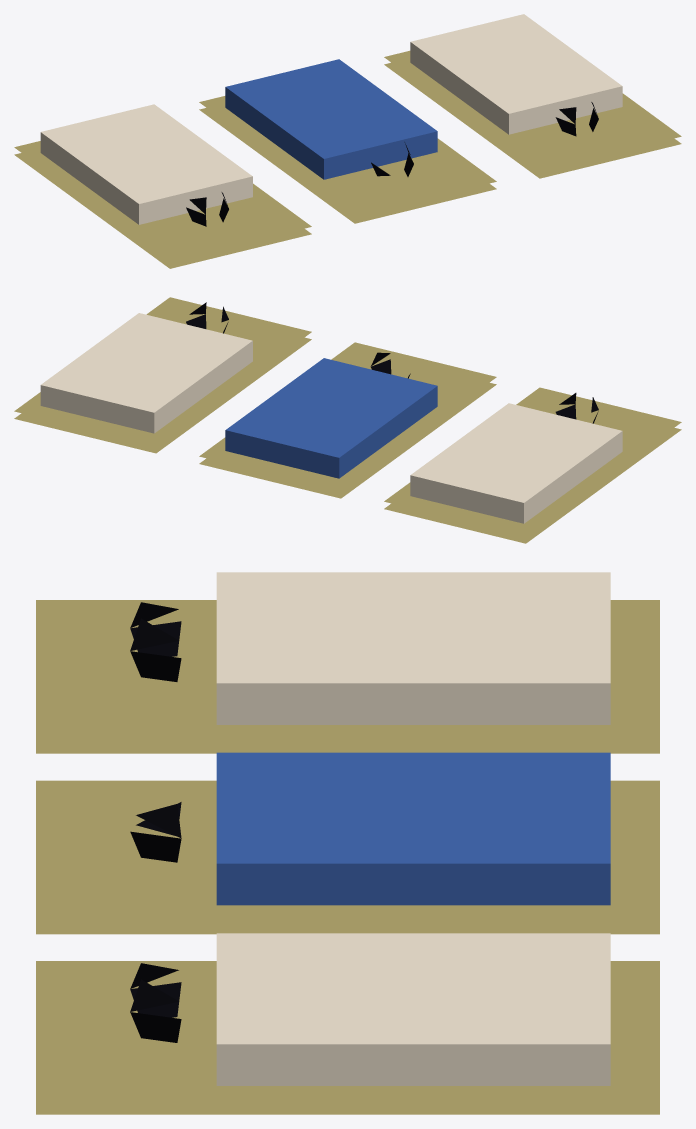
The model's file is prop_sick_mats_lod1.glb.
3 renders of one model, top to bottom at view 1: azimuth 30°, elevation 25°; view 2: azimuth 150°, elevation 25°; view 3: azimuth 270°, elevation 25°, orthographic. The views are drawn at different scales.
Visible parts, largest first — view 1: prop_sick_mats_lod1; view 2: prop_sick_mats_lod1; view 3: prop_sick_mats_lod1.
Part boxes in pixels (box(x1,y1,x2,y2)): prop_sick_mats_lod1: box(14, 14, 681, 268); prop_sick_mats_lod1: box(14, 297, 681, 543); prop_sick_mats_lod1: box(36, 572, 659, 1114).
Bounding box in the file's own units: 3.6 × 0.249 × 1.9.
